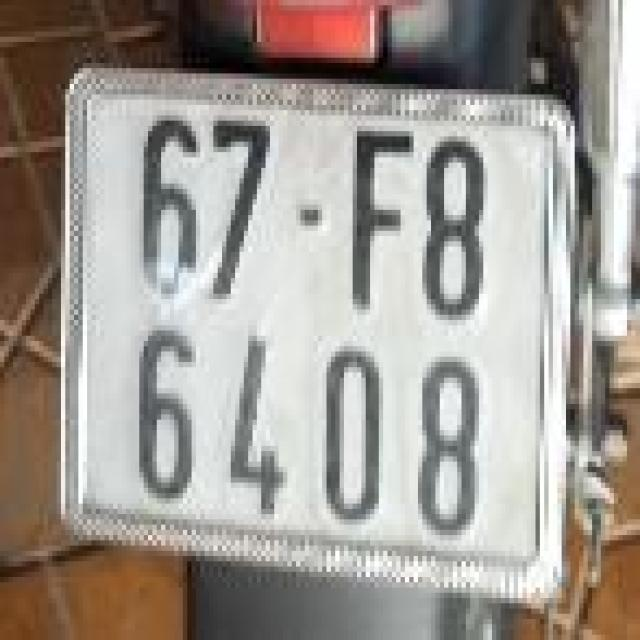0: (320, 333, 390, 527)
4: (222, 320, 296, 525)
6: (118, 320, 200, 509), (133, 94, 202, 315)
7: (204, 102, 278, 307)
8: (416, 336, 503, 556), (420, 118, 494, 333)
F: (331, 115, 418, 320)
